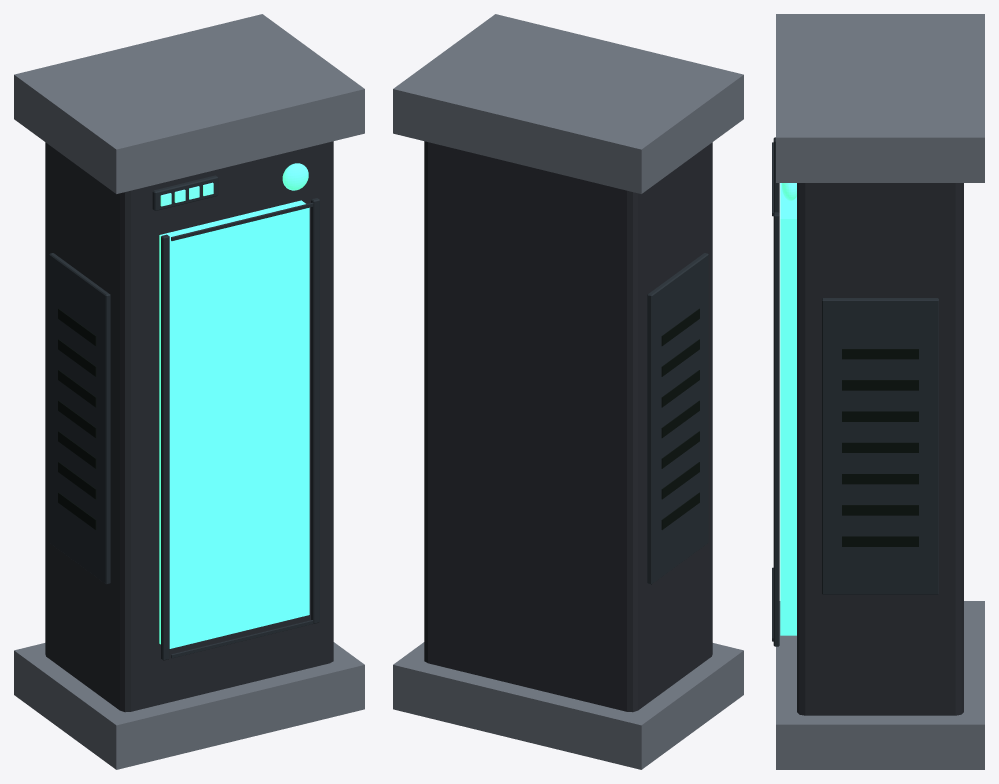
The model's file is Energy_Battery.fbx.
The picture shows the model from 3 angles, left to right: view 1: azimuth 30°, elevation 25°; view 2: azimuth 150°, elevation 25°; view 3: azimuth 270°, elevation 25°; orthographic projection.
Parts seen in each view (by area): view 1: main_body, Battery_Energy_Core, Battery_Top_Cap, Battery_Bottom_Cap, Side_Panel_-1, Core_Rail_-1, Core_Rail_1, Charge_Bezel, Core_Glow_End_-1, Core_Glow_End_1; view 2: main_body, Battery_Top_Cap, Battery_Bottom_Cap, Side_Panel_-1; view 3: main_body, Battery_Top_Cap, Side_Panel_1, Battery_Bottom_Cap, Battery_Energy_Core, Core_Rail_1, Vent_1_0, Vent_1_1, Vent_1_2, Vent_1_3, Vent_1_4, Vent_1_5 (+1 smaller).
Part boxes in pixels (x1,y1,x2,y2): main_body: (45,141,333,712); Battery_Energy_Core: (159,200,309,648); Battery_Top_Cap: (14,14,364,193); Battery_Bottom_Cap: (14,642,364,769); Side_Panel_-1: (49,253,110,584); Core_Rail_-1: (161,234,169,660); Core_Rail_1: (311,198,319,623); Charge_Bezel: (152,175,218,210); Core_Glow_End_-1: (171,620,313,658); Core_Glow_End_1: (171,202,313,240); main_body: (424,141,712,712); Battery_Top_Cap: (393,14,743,193); Battery_Bottom_Cap: (393,642,743,769); Side_Panel_-1: (647,253,708,584); main_body: (797,183,963,715); Battery_Top_Cap: (776,14,984,182); Side_Panel_1: (822,298,938,594); Battery_Bottom_Cap: (776,601,984,769); Battery_Energy_Core: (780,183,796,635); Core_Rail_1: (773,212,779,646); Vent_1_0: (842,536,918,546); Vent_1_1: (842,505,918,515); Vent_1_2: (842,474,918,484); Vent_1_3: (842,442,918,452); Vent_1_4: (842,411,918,421); Vent_1_5: (842,380,918,390).
Size of the model in its own units: 140 by 334 by 102.
